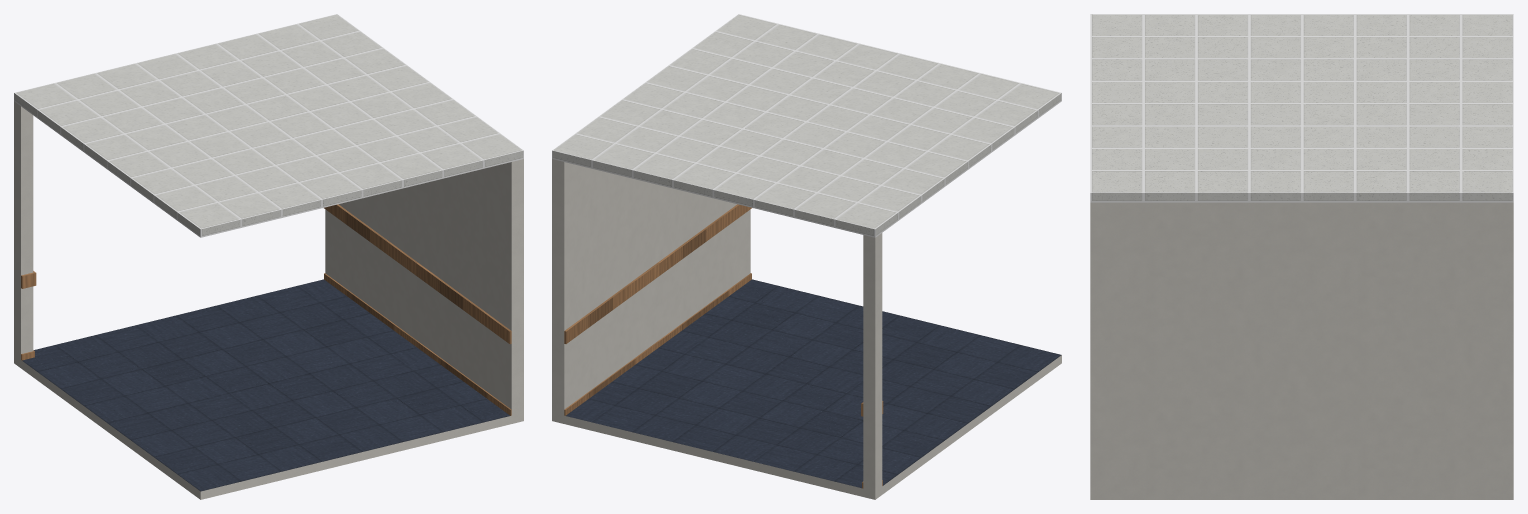
File: Room_Office_OpeningCornerR_NoLight.glb
3 renders of one model, left to right at view 1: azimuth 30°, elevation 25°; view 2: azimuth 150°, elevation 25°; view 3: azimuth 270°, elevation 25°, orthographic. The views are drawn at different scales.
Parts seen in each view (by area): view 1: Room_Office_OpeningCornerR_NoLight, Room_Office_OpeningCornerR_NoLight_Ceiling; view 2: Room_Office_OpeningCornerR_NoLight, Room_Office_OpeningCornerR_NoLight_Ceiling; view 3: Room_Office_OpeningCornerR_NoLight, Room_Office_OpeningCornerR_NoLight_Ceiling.
Part boxes in pixels (x1=…): Room_Office_OpeningCornerR_NoLight: x1=14, y1=101, x2=523, y2=499; Room_Office_OpeningCornerR_NoLight_Ceiling: x1=14, y1=14, x2=523, y2=237; Room_Office_OpeningCornerR_NoLight: x1=552, y1=159, x2=1061, y2=499; Room_Office_OpeningCornerR_NoLight_Ceiling: x1=552, y1=14, x2=1061, y2=237; Room_Office_OpeningCornerR_NoLight: x1=1090, y1=202, x2=1513, y2=499; Room_Office_OpeningCornerR_NoLight_Ceiling: x1=1090, y1=14, x2=1513, y2=202.
Bounding box in the file's own units: 4 × 3.2 × 4.
Materials: 4 (4 with a texture image).
